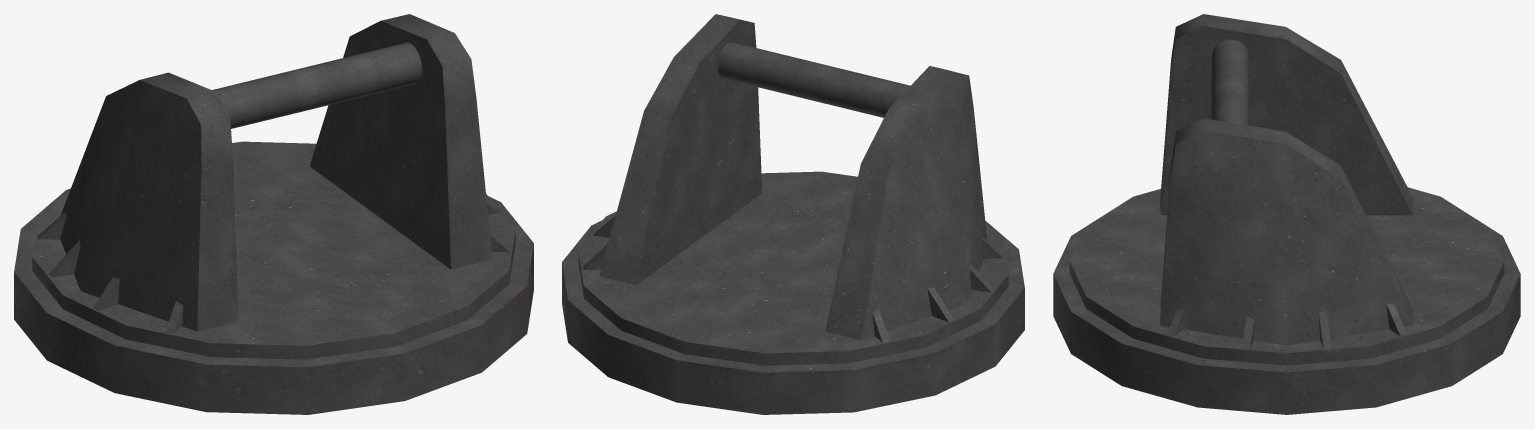
The model's file is roofbar_turret.dae.
The picture shows the model from 3 angles, left to right: view 1: azimuth 30°, elevation 25°; view 2: azimuth 150°, elevation 25°; view 3: azimuth 270°, elevation 25°; orthographic projection. The views are drawn at different scales.
Visible parts, largest first — view 1: turret, turret_base; view 2: turret, turret_base; view 3: turret, turret_base.
Part boxes in pixels (left/top/right/bottom): turret: left=32, top=14, right=515, bottom=359; turret_base: left=14, top=188, right=533, bottom=414; turret: left=578, top=14, right=1008, bottom=365; turret_base: left=562, top=220, right=1024, bottom=414; turret: left=1069, top=14, right=1504, bottom=365; turret_base: left=1053, top=227, right=1520, bottom=414.
Bounding box in the file's own units: 0.7531 × 0.7531 × 0.4341.
1 material, 1 textured.
